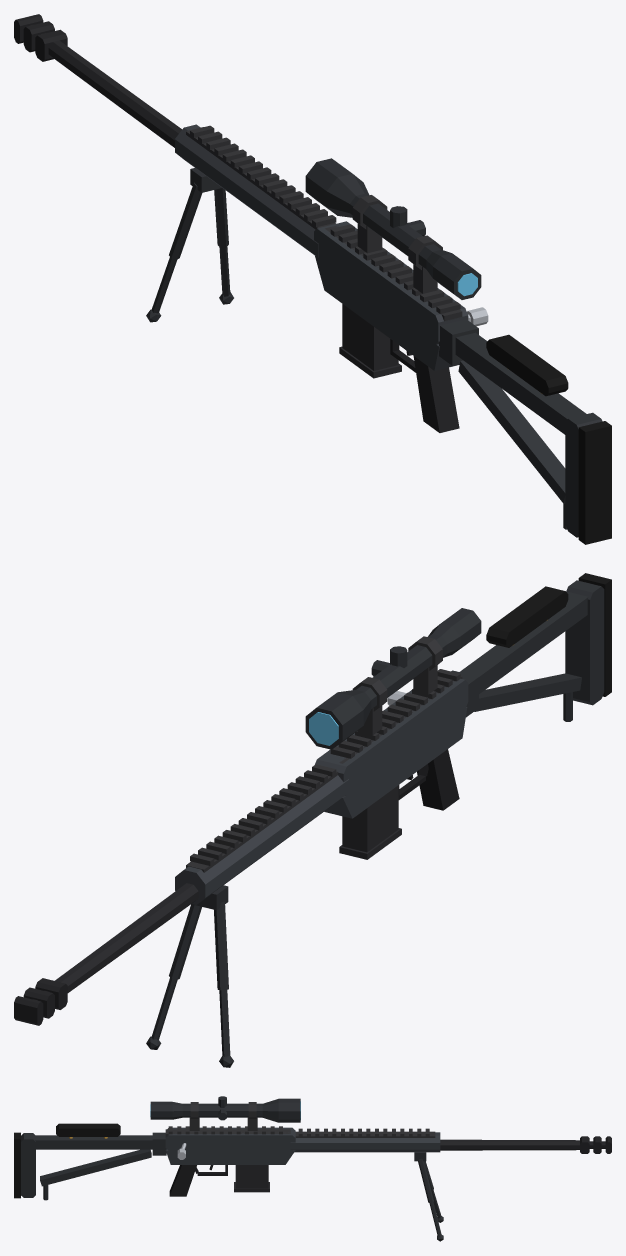
File: Raptor.obj
3 renders of one model, top to bottom at view 1: azimuth 30°, elevation 25°; view 2: azimuth 150°, elevation 25°; view 3: azimuth 270°, elevation 25°, orthographic. The views are drawn at different scales.
Parts seen in each view (by area): view 1: Stock, Body, Mount, Pad, Scope, Handguard, Bipod, Barrel, Magazine, Grip, Muzzle; view 2: Stock, Body, Mount, Scope, Handguard, Bipod, Pad, Barrel, Magazine, Muzzle, Grip, Lens; view 3: Stock, Body, Mount, Scope, Handguard, Barrel, Pad, Magazine, Bipod, Grip, Muzzle.
Part boxes in pixels (bbox=[...]): Stock: bbox=[439, 319, 602, 537]; Body: bbox=[314, 221, 468, 370]; Mount: bbox=[186, 125, 462, 321]; Pad: bbox=[486, 334, 611, 544]; Scope: bbox=[305, 158, 481, 299]; Handguard: bbox=[175, 124, 318, 257]; Bipod: bbox=[146, 168, 567, 529]; Barrel: bbox=[48, 40, 181, 147]; Magazine: bbox=[339, 304, 401, 378]; Grip: bbox=[413, 356, 459, 432]; Muzzle: bbox=[14, 14, 67, 61]; Stock: bbox=[451, 580, 604, 717]; Body: bbox=[315, 678, 468, 818]; Mount: bbox=[186, 636, 462, 872]; Scope: bbox=[305, 608, 481, 749]; Handguard: bbox=[175, 775, 348, 904]; Bipod: bbox=[146, 692, 572, 1067]; Pad: bbox=[486, 573, 611, 696]; Barrel: bbox=[55, 883, 198, 992]; Magazine: bbox=[339, 785, 401, 859]; Muzzle: bbox=[14, 978, 67, 1025]; Grip: bbox=[417, 749, 459, 810]; Lens: bbox=[309, 712, 338, 745]; Stock: bbox=[21, 1132, 166, 1197]; Body: bbox=[165, 1127, 295, 1164]; Mount: bbox=[165, 1102, 435, 1137]; Scope: bbox=[150, 1096, 300, 1122]; Handguard: bbox=[290, 1132, 440, 1152]; Barrel: bbox=[440, 1139, 579, 1150]; Pad: bbox=[14, 1123, 120, 1198]; Magazine: bbox=[234, 1165, 269, 1192]; Bipod: bbox=[43, 1151, 443, 1241]; Grip: bbox=[169, 1165, 196, 1196]; Muzzle: bbox=[580, 1136, 611, 1153].
Size of the model in its own units: 0.534 by 1.47 by 5.99.
